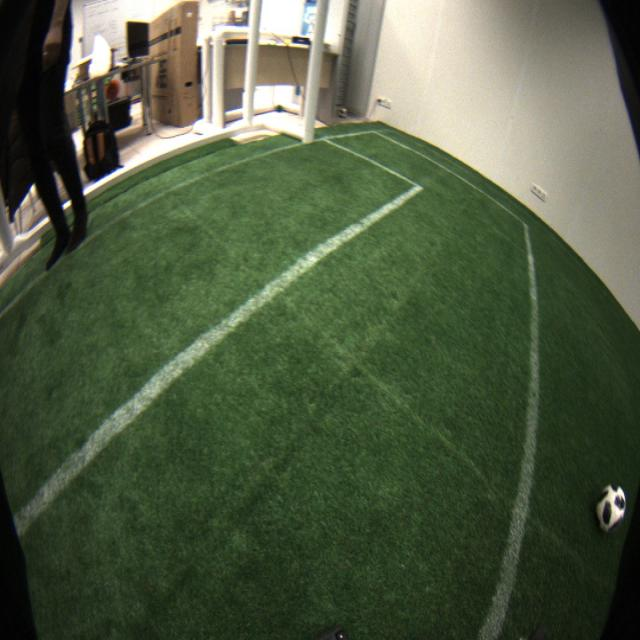ball: (598, 481, 627, 536)
goalpost: (302, 2, 330, 143)
